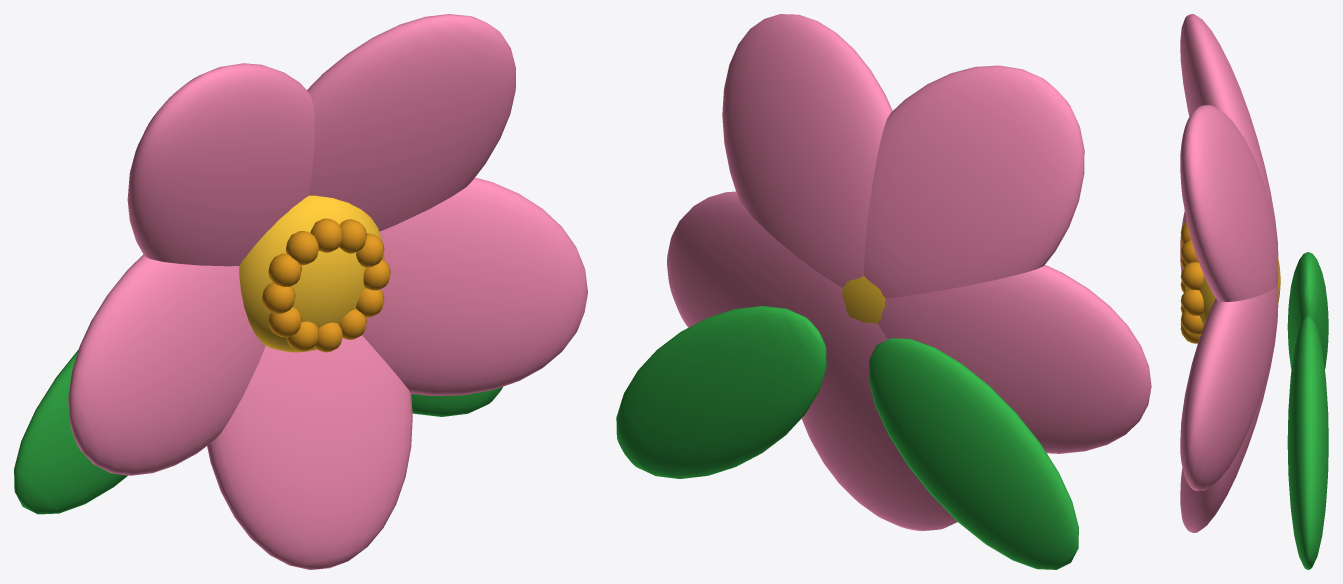
File: flower.glb
3 renders of one model, left to right at view 1: azimuth 30°, elevation 25°; view 2: azimuth 150°, elevation 25°; view 3: azimuth 270°, elevation 25°, orthographic. The views are drawn at different scales.
Parts seen in each view (by area): view 1: kvet_platek_1, kvet_platek_2, kvet_platek_0, kvet_platek_3, kvet_platek_4, kvet_stred, kvet_list_1, kvet_list_-1, kvet_seminko_5, kvet_seminko_4, kvet_seminko_3, kvet_seminko_6 (+2 smaller); view 2: kvet_platek_4, kvet_platek_0, kvet_platek_3, kvet_list_1, kvet_list_-1, kvet_platek_1, kvet_platek_2, kvet_stred; view 3: kvet_platek_0, kvet_platek_1, kvet_list_-1, kvet_platek_4, kvet_list_1, kvet_platek_2, kvet_seminko_1, kvet_stred, kvet_seminko_0, kvet_seminko_11, kvet_seminko_2.
Part boxes in pixels (x1,y1,x2,y2): kvet_platek_1: (362, 177, 587, 395); kvet_platek_2: (207, 335, 412, 569); kvet_platek_0: (307, 14, 515, 231); kvet_platek_3: (68, 254, 265, 475); kvet_platek_4: (127, 63, 314, 266); kvet_stred: (239, 195, 384, 352); kvet_list_1: (14, 349, 127, 514); kvet_list_-1: (411, 386, 502, 416); kvet_seminko_5: (268, 253, 301, 286); kvet_seminko_4: (285, 231, 318, 265); kvet_seminko_3: (310, 218, 342, 252); kvet_seminko_6: (262, 282, 295, 314); kvet_platek_4: (864, 65, 1084, 298); kvet_platek_0: (722, 14, 892, 287); kvet_platek_3: (878, 265, 1151, 453); kvet_list_1: (868, 338, 1078, 569); kvet_list_-1: (616, 306, 826, 478); kvet_platek_1: (667, 191, 849, 346); kvet_platek_2: (801, 317, 957, 530); kvet_stred: (842, 276, 885, 323); kvet_platek_0: (1180, 105, 1278, 301); kvet_platek_1: (1180, 284, 1278, 490); kvet_list_-1: (1287, 315, 1328, 569); kvet_platek_4: (1180, 14, 1278, 258); kvet_list_1: (1287, 252, 1328, 369); kvet_platek_2: (1180, 304, 1278, 532); kvet_seminko_1: (1180, 262, 1203, 290); kvet_stred: (1185, 259, 1280, 326); kvet_seminko_0: (1180, 289, 1203, 315); kvet_seminko_11: (1180, 311, 1203, 334); kvet_seminko_2: (1180, 239, 1198, 264).
Bounding box in the file's own units: 0.3804 × 0.3673 × 0.1084.
